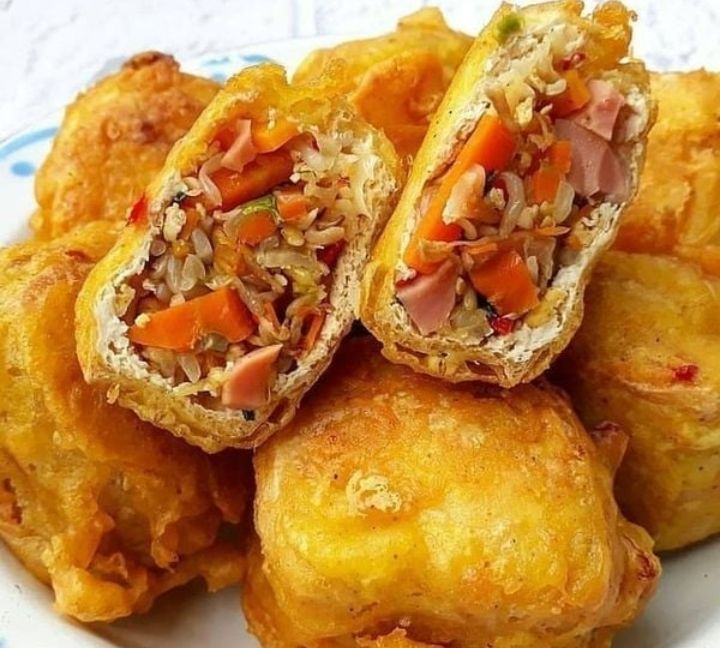Tahu: (239, 359, 609, 646)
